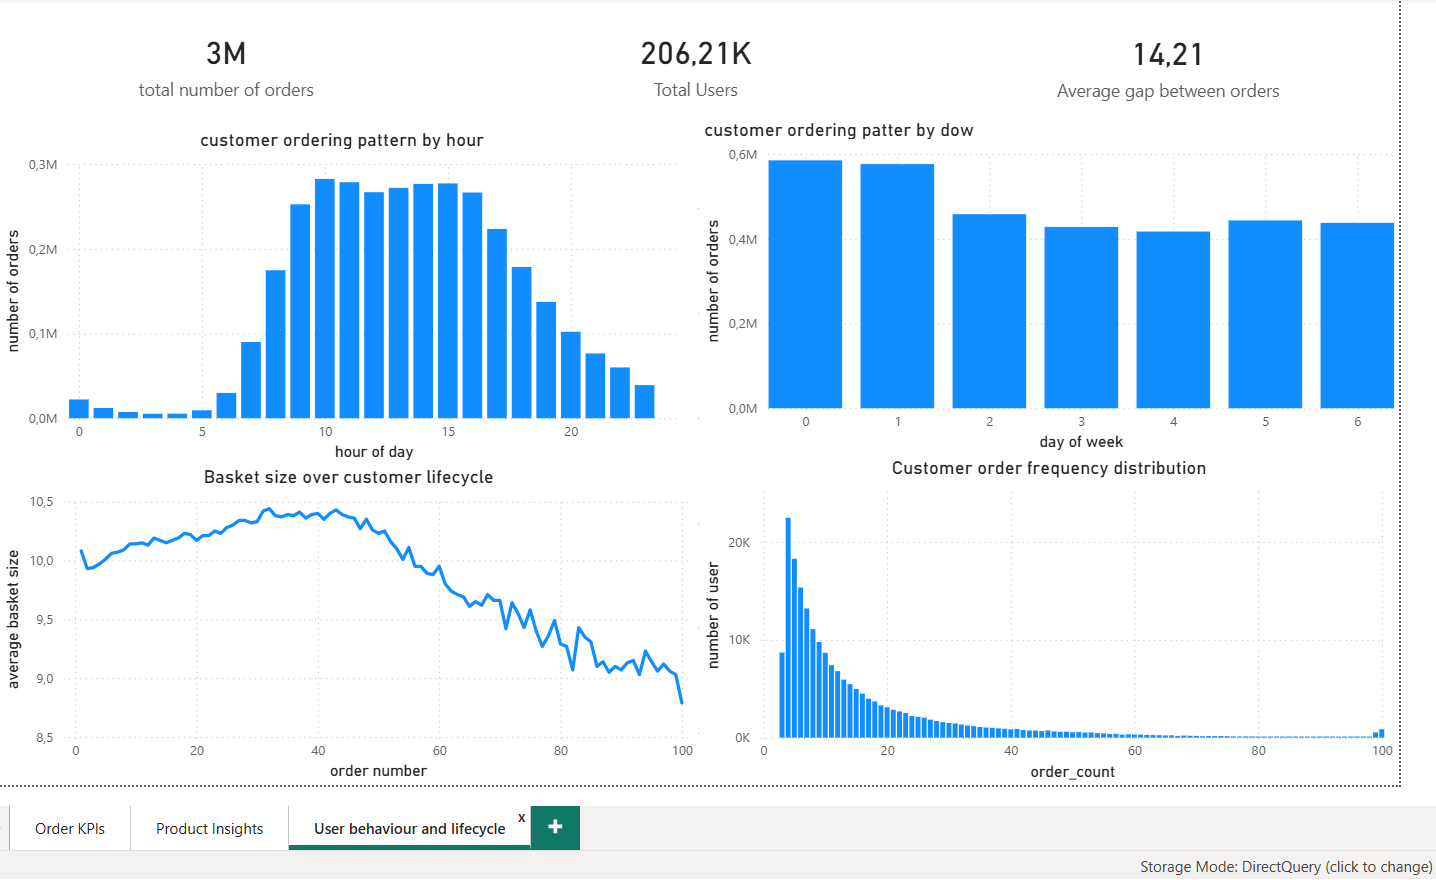

Layout of this report page (visuals, bound fields, positions):
{"tool":"powerbi","page":{"name":"User behaviour and lifecycle","canvas":[1280,720],"ordinal":2},"visuals":[{"type":"card","fields":{"Values":["Sum(instacart v_user_order_counts.order_count)"]},"box":[0,0,415.8,118.6],"z":0},{"type":"card","fields":{"Values":["Avg(instacart v_user_median_order_gap.median_days_between_orders)"]},"box":[858.4,2.4,421.9,116.2],"z":1000},{"type":"card","fields":{"Values":["Count(instacart v_user_order_counts.user_id)"]},"box":[415.8,0,442.7,118.6],"z":2000},{"type":"lineChart","title":"Basket size over customer lifecycle","fields":{"Category":["instacart v_lifecycle_basket_size.order_number"],"Y":["Sum(instacart v_lifecycle_basket_size.avg_basket_size)"]},"box":[0,428,639.5,292.3],"z":3000},{"type":"clusteredColumnChart","title":"customer ordering pattern by hour","fields":{"Category":["instacart v_orders_by_hour.hour_of_day"],"Y":["Sum(instacart v_orders_by_hour.number_of_orders)"]},"box":[0,118.6,627.3,309.4],"z":4000},{"type":"clusteredColumnChart","title":"customer ordering patter by dow","fields":{"Y":["Sum(instacart v_orders_by_dow.number_of_orders)"],"Category":["instacart v_orders_by_dow.day_of_week"]},"box":[639.5,110.1,640.8,309.4],"z":5000},{"type":"clusteredColumnChart","title":"Customer order frequency distribution","fields":{"Category":["instacart v_user_order_counts.order_count"],"Y":["CountNonNull(instacart v_user_order_counts.order_count)"]},"box":[639.5,419.4,640.8,300.8],"z":6000}]}

Visuals, with their boxes on the page's 1280x720 design canvas (x1, y1, x2, y2). These are canvas units, not pixel positions in the 1436x880 screenshot, which may show the page scaled, cropped or inside an application window:
card - Sum(instacart v_user_order_counts.order_count): <box>0,0,416,119</box>
card - Avg(instacart v_user_median_order_gap.median_days_between_orders): <box>858,2,1280,119</box>
card - Count(instacart v_user_order_counts.user_id): <box>416,0,858,119</box>
"Basket size over customer lifecycle" lineChart: <box>0,428,640,720</box>
"customer ordering pattern by hour" clusteredColumnChart: <box>0,119,627,428</box>
"customer ordering patter by dow" clusteredColumnChart: <box>640,110,1280,420</box>
"Customer order frequency distribution" clusteredColumnChart: <box>640,419,1280,720</box>
